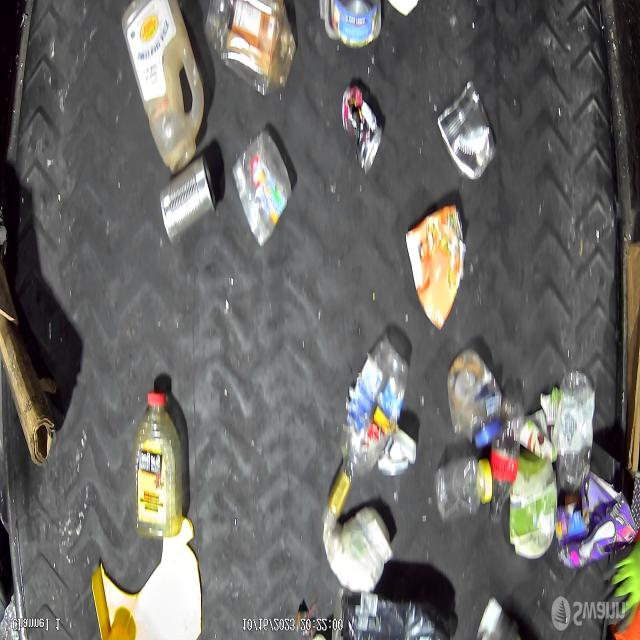can: (438, 78, 497, 182), (160, 154, 218, 244), (341, 85, 384, 174), (330, 0, 379, 47), (377, 425, 417, 479)
non_white_jug: (121, 0, 205, 175)
plastic_bottle: (326, 336, 410, 519), (133, 392, 183, 540), (488, 396, 526, 526), (559, 370, 596, 491), (434, 457, 492, 522)
